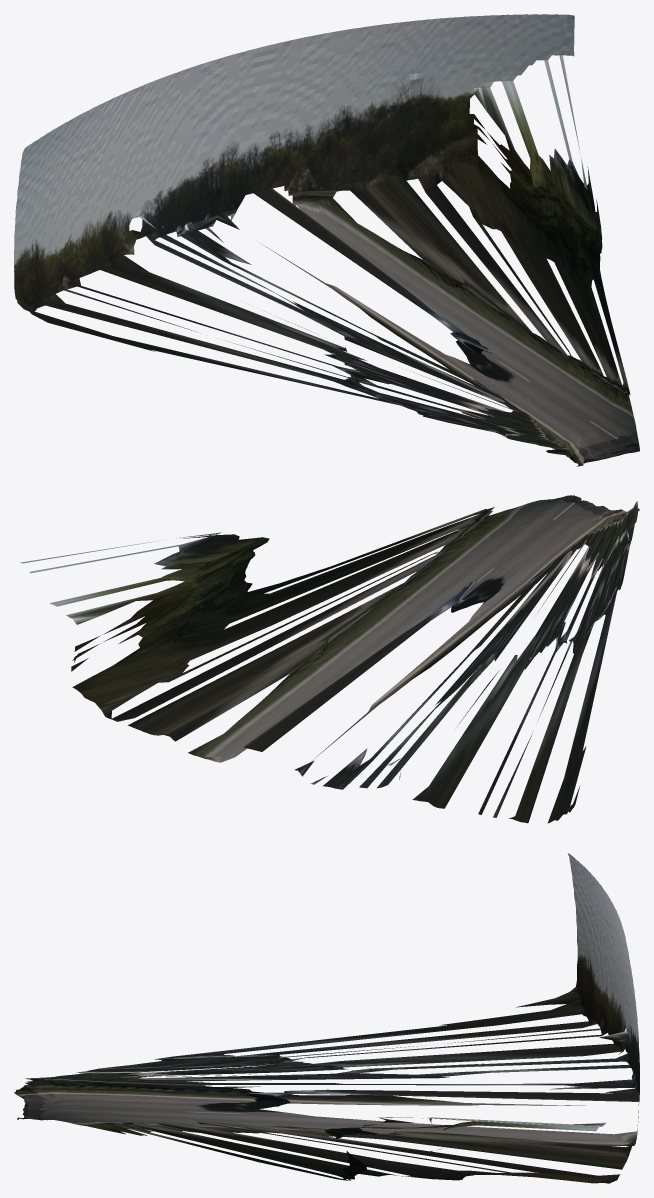
The picture shows the model from 3 angles, top to bottom: view 1: azimuth 30°, elevation 25°; view 2: azimuth 150°, elevation 25°; view 3: azimuth 270°, elevation 25°; orthographic projection. The views are drawn at different scales.
Visible parts, largest first — view 1: defaultobject; view 2: defaultobject; view 3: defaultobject.
Boxes of the visible parts, <box> form: defaultobject: <box>14,14,639,466</box>; defaultobject: <box>20,495,639,823</box>; defaultobject: <box>14,853,639,1183</box>.
Size of the model in its own units: 41.02 by 12.96 by 44.82.
Materials: 1 (1 with a texture image).
